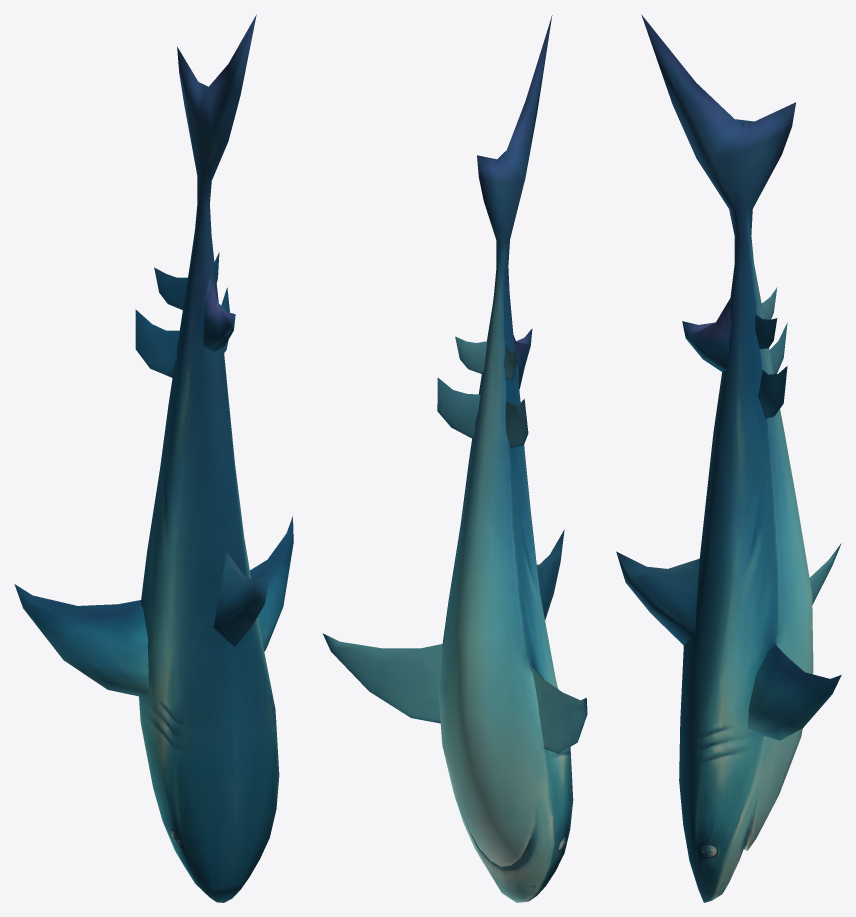
Rendered from z_jk_weapon_yongzhuang_skin.FBX.
The picture shows the model from 3 angles, left to right: view 1: azimuth 30°, elevation 25°; view 2: azimuth 150°, elevation 25°; view 3: azimuth 270°, elevation 25°; orthographic projection. The views are drawn at different scales.
Visible parts, largest first — view 1: w_yongzhuang; view 2: w_yongzhuang; view 3: w_yongzhuang.
Part boxes in pixels (<box>): w_yongzhuang: <box>14,14,293,902</box>; w_yongzhuang: <box>322,15,587,902</box>; w_yongzhuang: <box>616,14,841,902</box>.
Bounding box in the file's own units: 53.92 × 169 × 38.89.
